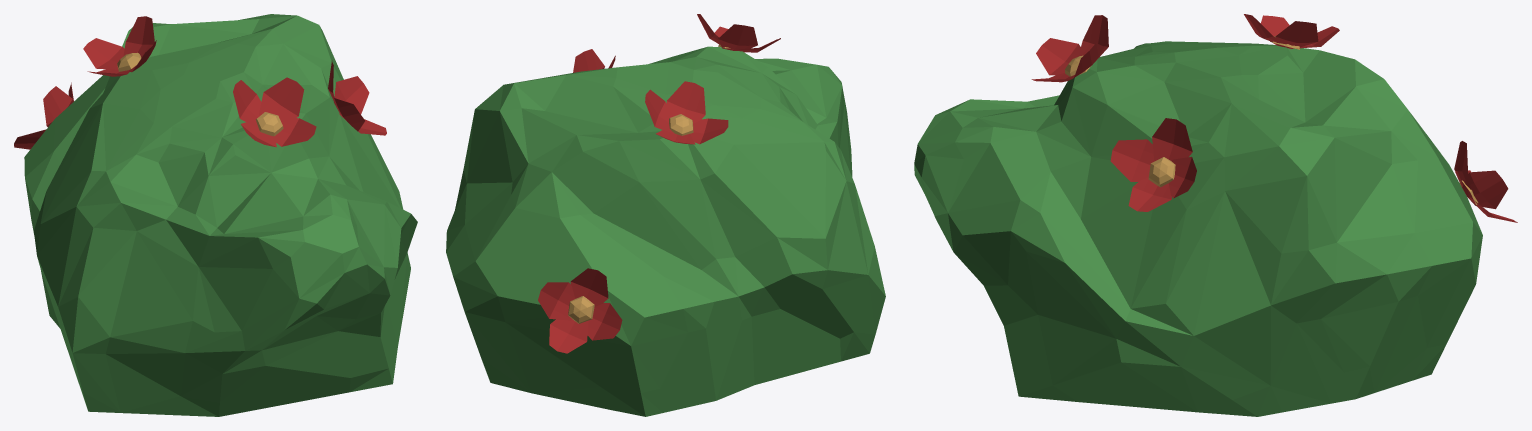
The model's file is Arbusto_flores.fbx.
3 renders of one model, left to right at view 1: azimuth 30°, elevation 25°; view 2: azimuth 150°, elevation 25°; view 3: azimuth 270°, elevation 25°, orthographic. The views are drawn at different scales.
Visible parts, largest first — view 1: Arbusto_flores; view 2: Arbusto_flores; view 3: Arbusto_flores.
Boxes of the visible parts, left/top/right/bottom form: Arbusto_flores: left=14, top=14, right=417, bottom=416; Arbusto_flores: left=446, top=14, right=885, bottom=416; Arbusto_flores: left=914, top=14, right=1517, bottom=416.
Size of the model in its own units: 1.38 by 1.11 by 1.89.
